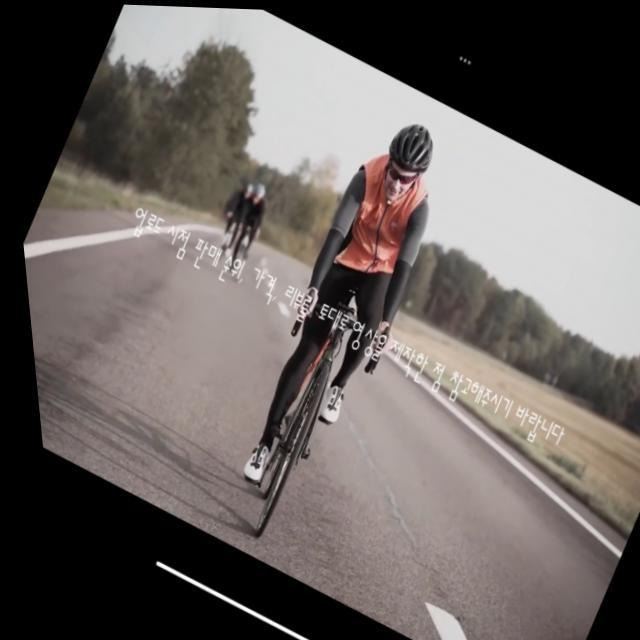Helmet: (365, 115, 447, 208)
